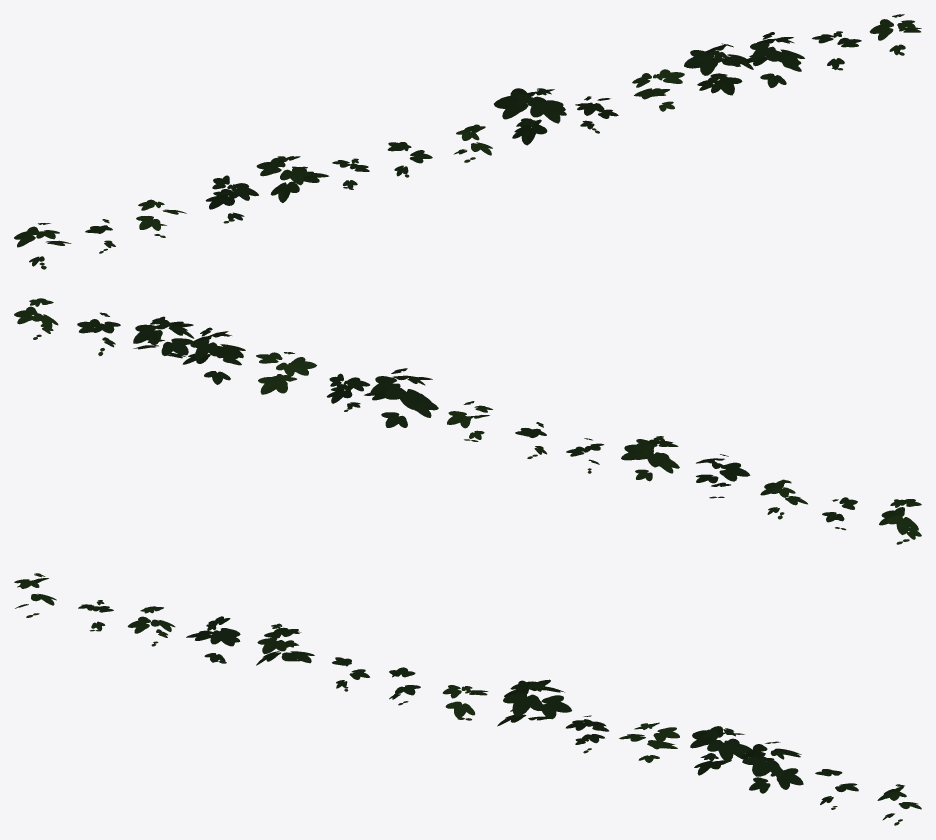
Rendered from ROW_10_SEG0_foliage.dae.
The picture shows the model from 3 angles, top to bottom: view 1: azimuth 30°, elevation 25°; view 2: azimuth 150°, elevation 25°; view 3: azimuth 330°, elevation 25°; orthographic projection.
Visible parts, largest first — view 1: ROW_10_SEG0_foliage; view 2: ROW_10_SEG0_foliage; view 3: ROW_10_SEG0_foliage.
Boxes of the visible parts, x1,y1,x2,y2 form: ROW_10_SEG0_foliage: (14, 14, 921, 269); ROW_10_SEG0_foliage: (14, 298, 921, 544); ROW_10_SEG0_foliage: (14, 573, 921, 825).
Size of the model in its own units: 4.48 by 0.3287 by 0.2575.
